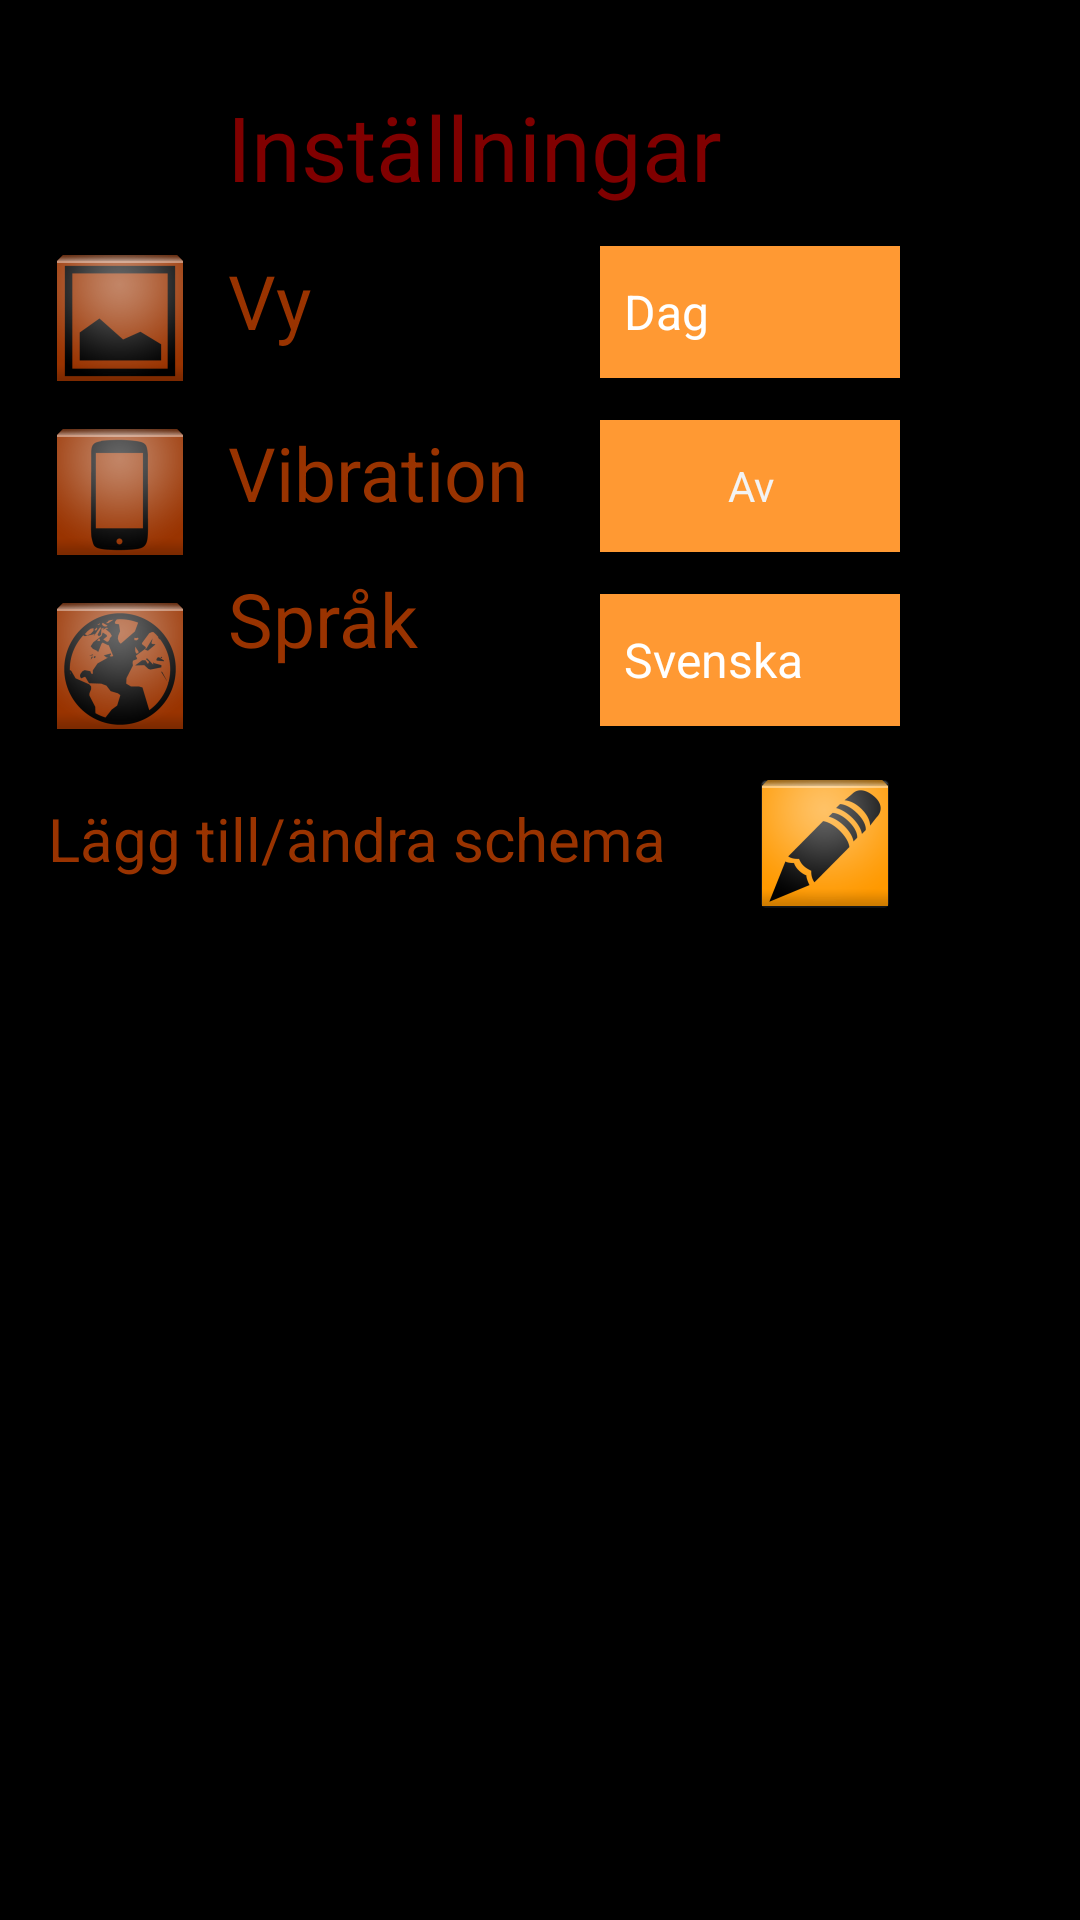

Icon bounding boxes for this 1080x1920 phone screenshot, format (x1, y1, x2, y2):
edit: (762, 780, 888, 906)
language: (57, 603, 183, 729)
view: (57, 255, 183, 381)
